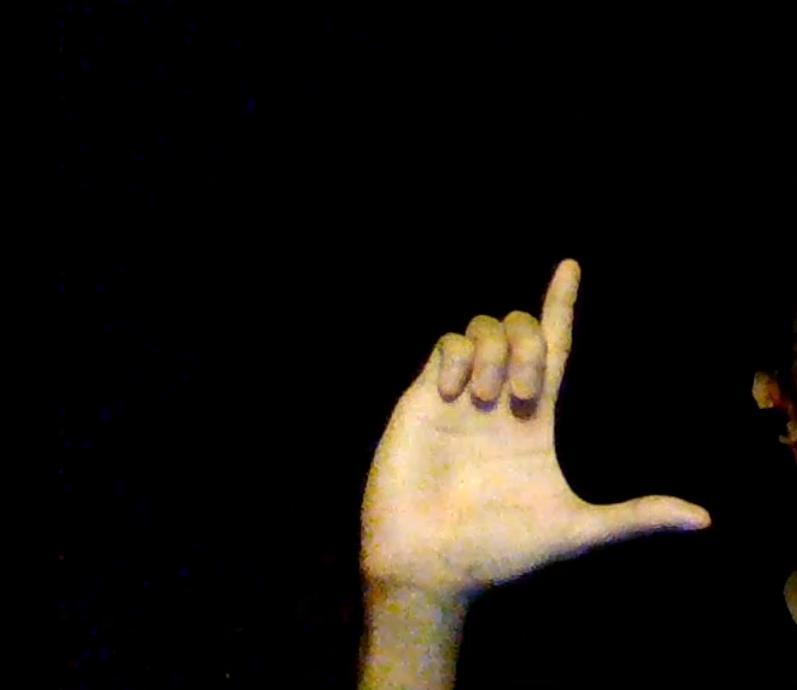l: (356, 257, 714, 585)
